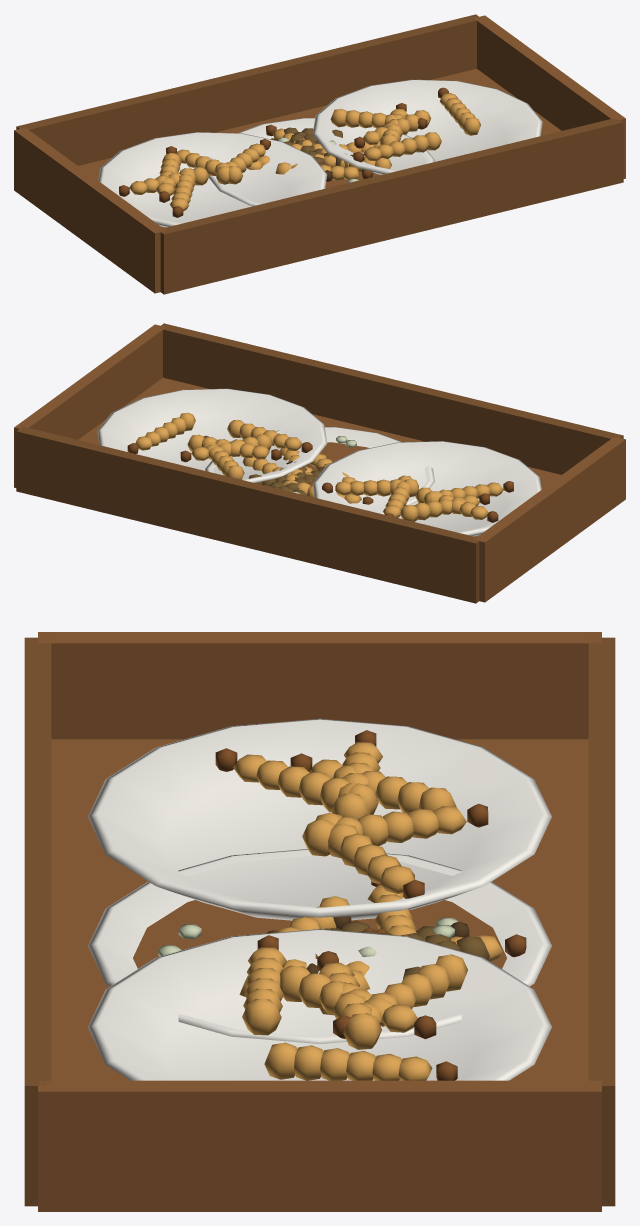
Rendered from Insect_Grilled.fbx.
3 renders of one model, top to bottom at view 1: azimuth 30°, elevation 25°; view 2: azimuth 150°, elevation 25°; view 3: azimuth 270°, elevation 25°, orthographic. The views are drawn at different scales.
Visible parts, largest first — view 1: Insect_Grilled__Stack, Insect_Grilled, Insect_Grilled__Rotten; view 2: Insect_Grilled__Stack, Insect_Grilled, Insect_Grilled__Rotten; view 3: Insect_Grilled__Stack, Insect_Grilled, Insect_Grilled__Rotten.
Part boxes in pixels (<box>): Insect_Grilled__Stack: <box>14,14,625,294</box>; Insect_Grilled: <box>209,118,434,206</box>; Insect_Grilled__Rotten: <box>270,127,358,182</box>; Insect_Grilled__Stack: <box>14,323,625,603</box>; Insect_Grilled: <box>205,427,434,514</box>; Insect_Grilled__Rotten: <box>248,436,356,495</box>; Insect_Grilled__Stack: <box>24,632,615,1211</box>; Insect_Grilled: <box>88,849,551,1043</box>; Insect_Grilled__Rotten: <box>158,916,489,979</box>.
Size of the model in its own units: 0.328 by 0.04 by 0.178.
